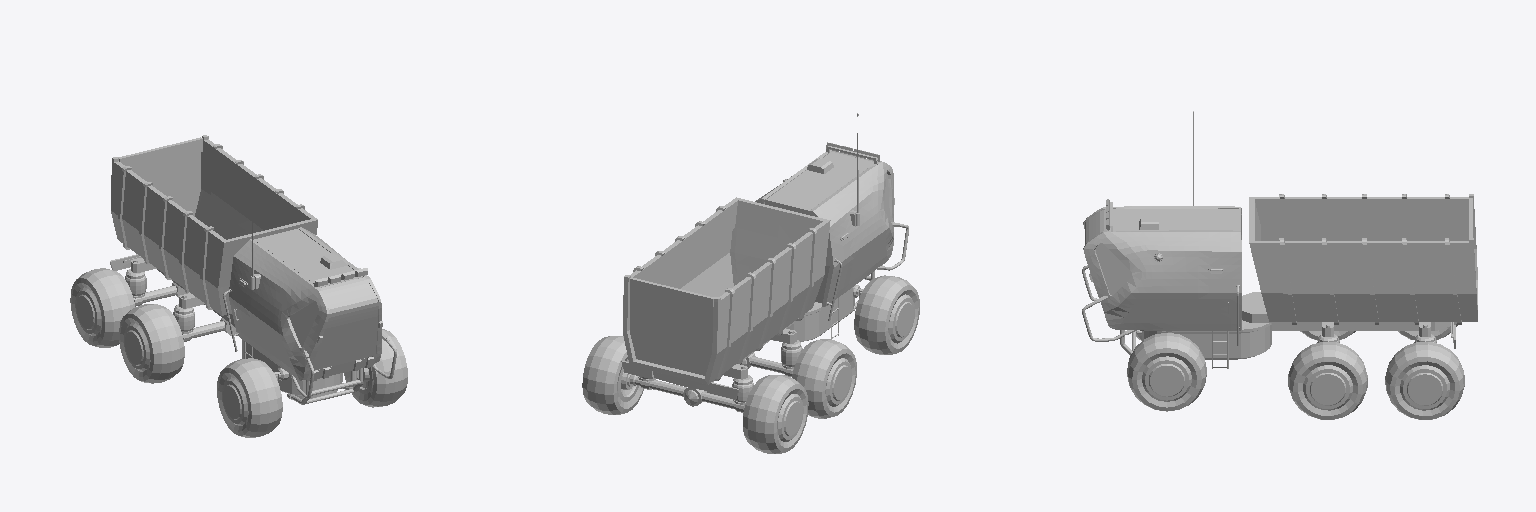
The model's file is TruckM.obj.
The picture shows the model from 3 angles: view 1: azimuth 30°, elevation 25°; view 2: azimuth 150°, elevation 25°; view 3: azimuth 270°, elevation 25°; orthographic projection.
Visible parts, largest first — view 1: initialShadingGroup Truck TruckM002:initialShadingGroupTruckpPla, initialShadingGroup Truck TruckM002:initialShadingGroupTruckpoly, initialShadingGroup Truck TruckM002:initialShadingGroupTruckpCub, initialShadingGroup Truck TruckM002:TruckpolySurface776, initialShadingGroup Truck TruckpolySurface778, initialShadingGroup Truck TruckpolySurface780, initialShadingGroup Truck TruckM002:TruckpolySurface774 TruckM00, initialShadingGroup Truck TruckM002:initialShadingGroupTruckinit, initialShadingGroup Truck TruckM002:initialShadingGroupTruckpCyl; view 2: initialShadingGroup Truck TruckM002:initialShadingGroupTruckpPla, initialShadingGroup Truck TruckM002:initialShadingGroupTruckpCub, initialShadingGroup Truck TruckM002:initialShadingGroupTruckpoly, initialShadingGroup Truck TruckpolySurface780, initialShadingGroup Truck TruckM002:TruckpolySurface776, initialShadingGroup Truck TruckpolySurface778, initialShadingGroup Truck TruckM002:TruckpolySurface774 Truckpol, initialShadingGroup Truck TruckM002:initialShadingGroupTruckinit, initialShadingGroup Truck initialShadingGroupTruckpCylinder340, initialShadingGroup Truck TruckM002:initialShadingGroupTruckpCyl; view 3: initialShadingGroup Truck TruckM002:initialShadingGroupTruckpPla, initialShadingGroup Truck TruckM002:initialShadingGroupTruckpoly, initialShadingGroup Truck TruckM002:TruckpolySurface774 Truckpol, initialShadingGroup Truck TruckM002:initialShadingGroupTruckpCub, initialShadingGroup Truck TruckM002:TruckpolySurface774 TruckM00, initialShadingGroup Truck TruckM002:initialShadingGroupTruckinit, initialShadingGroup Truck TruckM002:initialShadingGroupTruckpCyl.
Part boxes in pixels (left/top/right/bottom): initialShadingGroup Truck TruckM002:initialShadingGroupTruckpPla: left=111, top=135, right=378, bottom=371; initialShadingGroup Truck TruckM002:initialShadingGroupTruckpoly: left=173, top=226, right=387, bottom=399; initialShadingGroup Truck TruckM002:initialShadingGroupTruckpCub: left=110, top=137, right=375, bottom=395; initialShadingGroup Truck TruckM002:TruckpolySurface776: left=217, top=358, right=282, bottom=437; initialShadingGroup Truck TruckpolySurface778: left=119, top=304, right=184, bottom=383; initialShadingGroup Truck TruckpolySurface780: left=70, top=268, right=134, bottom=347; initialShadingGroup Truck TruckM002:TruckpolySurface774 TruckM00: left=344, top=329, right=407, bottom=407; initialShadingGroup Truck TruckM002:initialShadingGroupTruckinit: left=118, top=144, right=283, bottom=293; initialShadingGroup Truck TruckM002:initialShadingGroupTruckpCyl: left=181, top=294, right=396, bottom=404; initialShadingGroup Truck TruckM002:initialShadingGroupTruckpPla: left=623, top=151, right=873, bottom=384; initialShadingGroup Truck TruckM002:initialShadingGroupTruckpCub: left=621, top=113, right=889, bottom=399; initialShadingGroup Truck TruckM002:initialShadingGroupTruckpoly: left=639, top=150, right=899, bottom=378; initialShadingGroup Truck TruckpolySurface780: left=743, top=375, right=808, bottom=453; initialShadingGroup Truck TruckM002:TruckpolySurface776: left=854, top=275, right=919, bottom=354; initialShadingGroup Truck TruckpolySurface778: left=792, top=339, right=856, bottom=418; initialShadingGroup Truck TruckM002:TruckpolySurface774 Truckpol: left=582, top=336, right=643, bottom=414; initialShadingGroup Truck TruckM002:initialShadingGroupTruckinit: left=633, top=221, right=848, bottom=380; initialShadingGroup Truck initialShadingGroupTruckpCylinder340: left=630, top=375, right=744, bottom=412; initialShadingGroup Truck TruckM002:initialShadingGroupTruckpCyl: left=627, top=224, right=908, bottom=386; initialShadingGroup Truck TruckM002:initialShadingGroupTruckpPla: left=1085, top=194, right=1477, bottom=321; initialShadingGroup Truck TruckM002:initialShadingGroupTruckpoly: left=1083, top=194, right=1435, bottom=368; initialShadingGroup Truck TruckM002:TruckpolySurface774 Truckpol: left=1288, top=342, right=1464, bottom=419; initialShadingGroup Truck TruckM002:initialShadingGroupTruckpCub: left=1095, top=111, right=1472, bottom=359; initialShadingGroup Truck TruckM002:TruckpolySurface774 TruckM00: left=1127, top=333, right=1206, bottom=411; initialShadingGroup Truck TruckM002:initialShadingGroupTruckinit: left=1208, top=194, right=1461, bottom=324; initialShadingGroup Truck TruckM002:initialShadingGroupTruckpCyl: left=1082, top=265, right=1339, bottom=355.
Bounding box in the file's own units: 33.94 × 40.21 × 59.11.